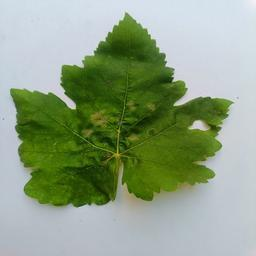Powdery-Mildew: (80, 108, 110, 138), (125, 131, 147, 148), (127, 100, 138, 111), (147, 102, 158, 113)
